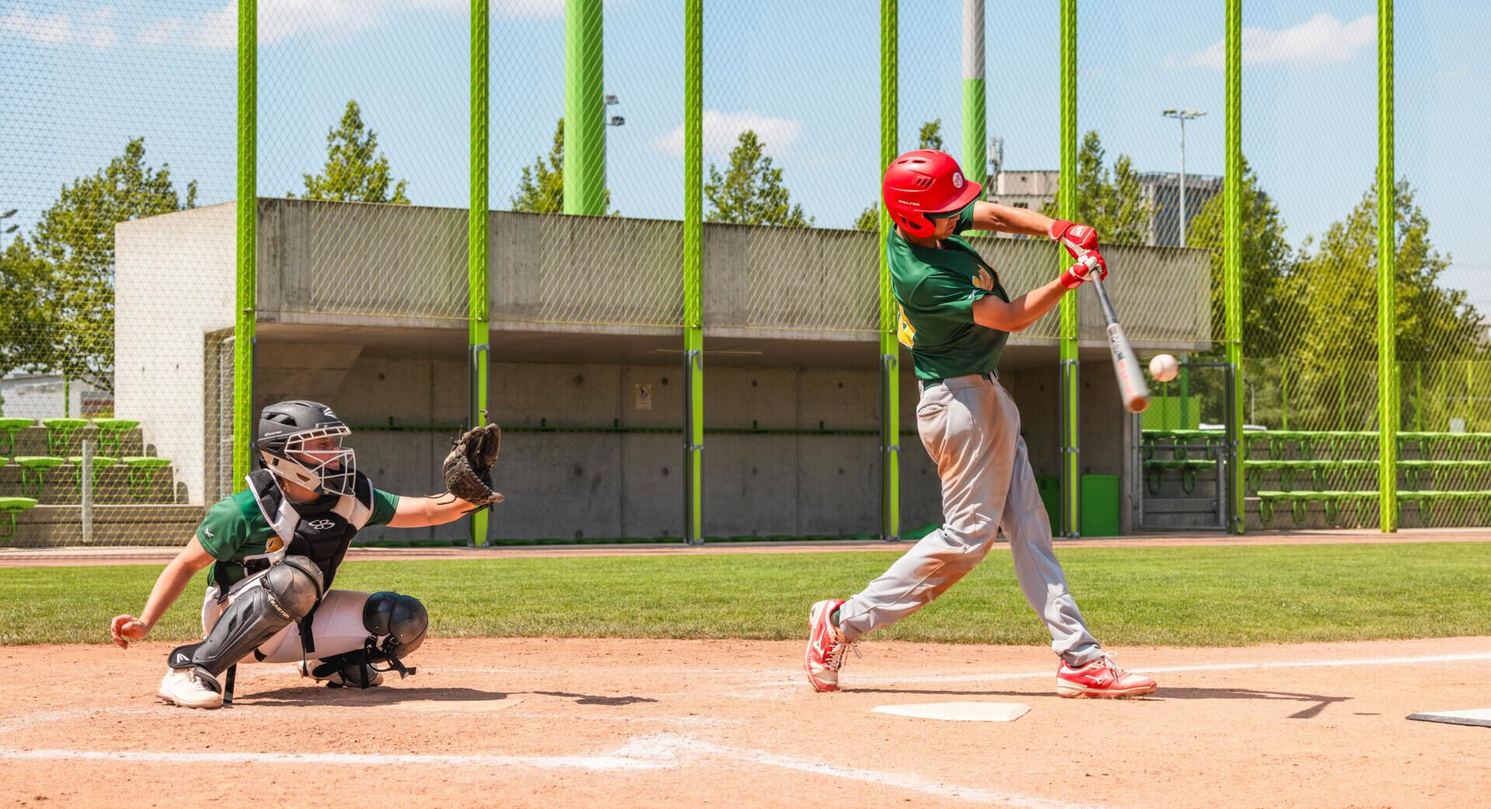baseball: (1149, 355, 1176, 382)
